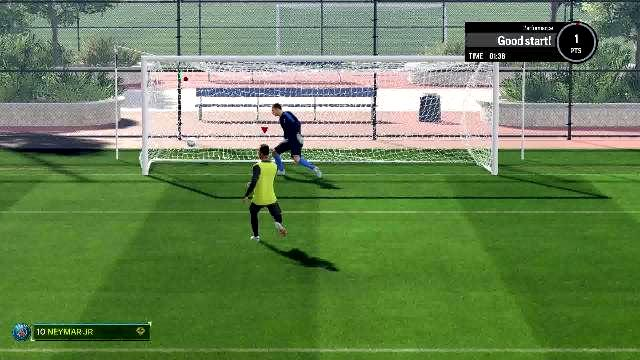bottom-left: (152, 122, 260, 176)
bottom-right: (376, 118, 490, 174)
center-down: (256, 121, 372, 177)
center-up: (259, 60, 375, 122)
football: (185, 136, 199, 148)
goalkeeper: (278, 99, 330, 180)
player: (236, 147, 300, 247)
top-left: (150, 62, 258, 118)
top-right: (376, 61, 490, 118)
